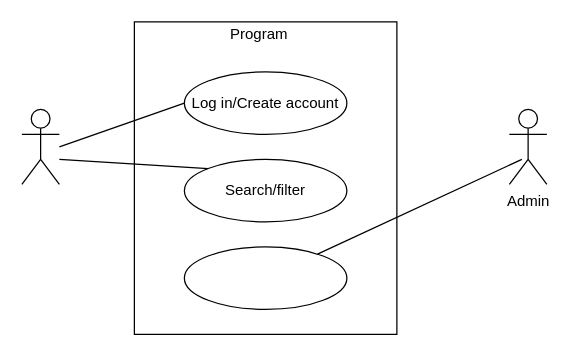
This 571x356 diagram has some shape labels left out. The shapes that lost their labels are listed below. From the top down, each one's centre as x and y in pixels, then its label:
At point 40,146: "User".
At point 265,277: "Upload".
